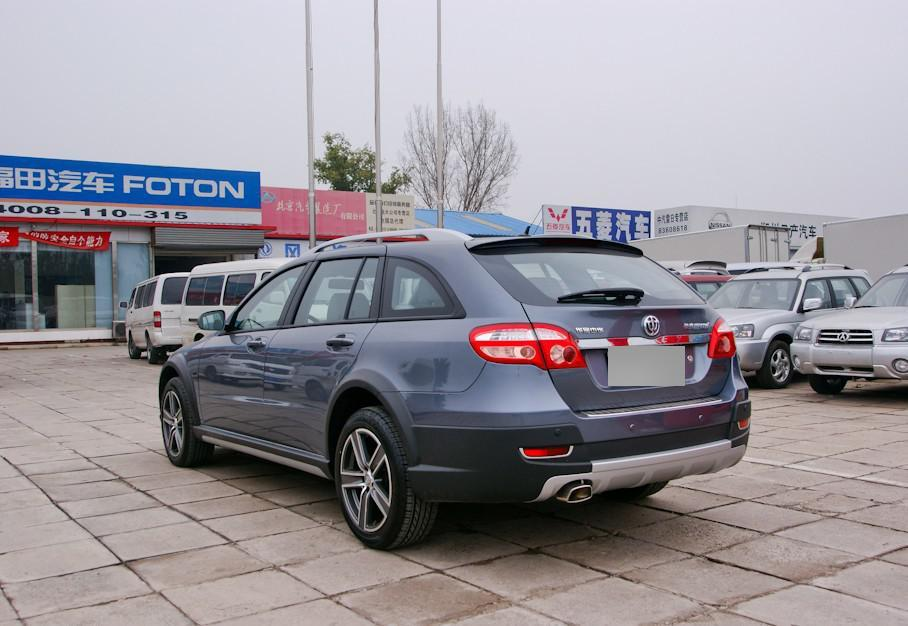Wagon: (157, 229, 753, 547)
